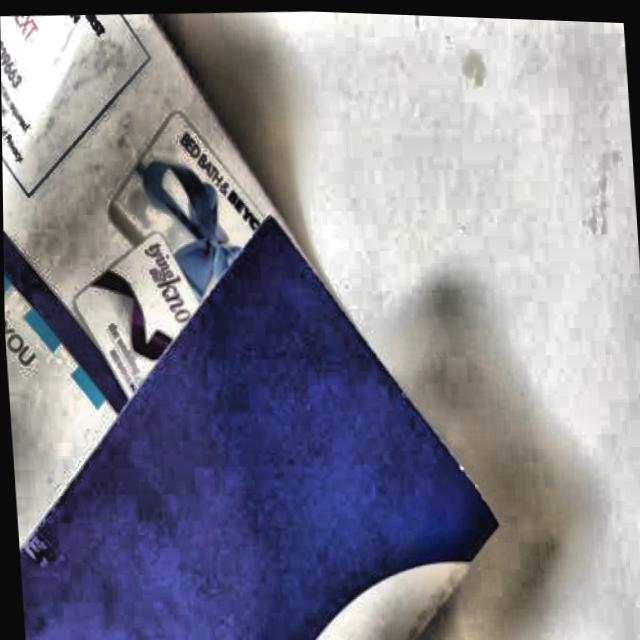Paper: (0, 0, 513, 640)
